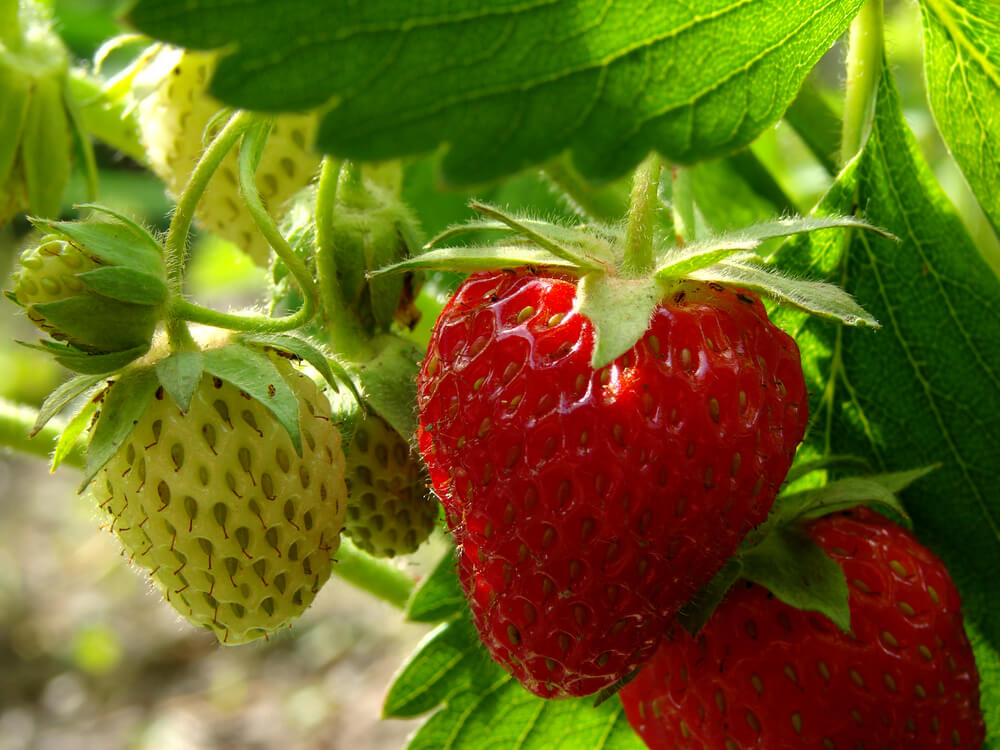ripe: (420, 256, 808, 707), (617, 494, 993, 750)
unripe: (78, 340, 359, 651), (10, 219, 187, 375), (302, 391, 456, 566)
